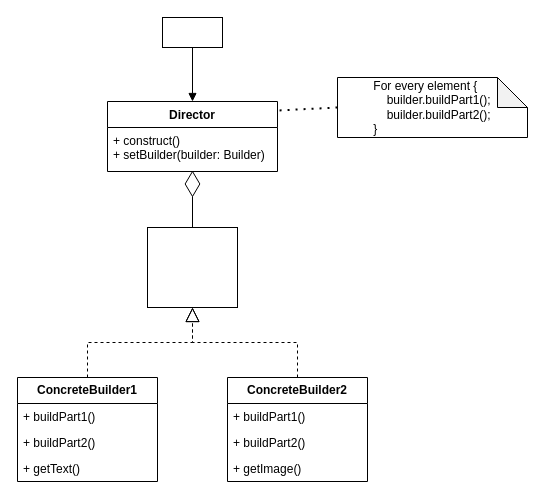
Image size: 545x502. Some labels were removed from this diagram. The centre of each missing label's shape, as x and y in pixels:
"<<Interface>> Builder + buildPart1() + buildPart2()" goes at (192,267).
"Client" goes at (192,32).
